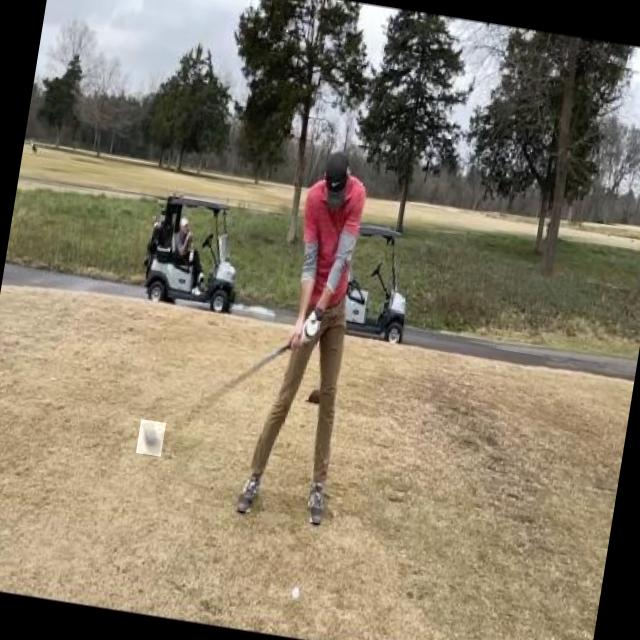club head: (136, 419, 166, 456)
